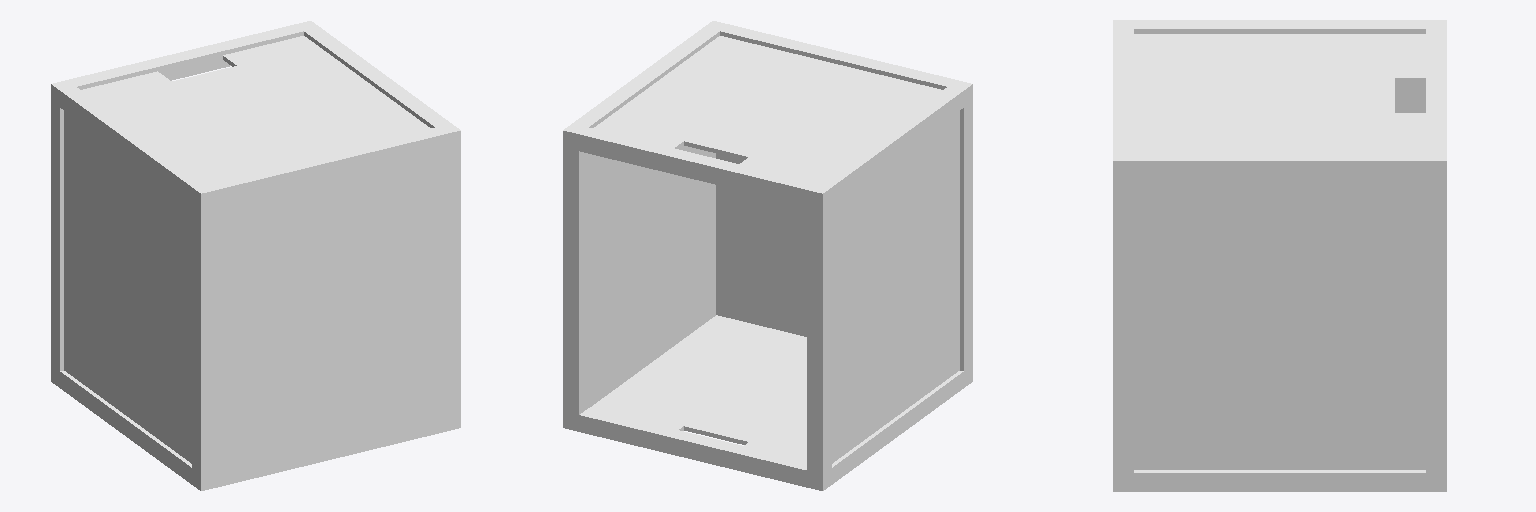
URDF robot description (cube.urdf):
<?xml version="0.0" ?>
<robot name="cube.urdf">
  <link concave="yes" name="baseLink">
    <inertial>
      <origin rpy="0 0 0" xyz="0 0 0"/>
       <mass value=".0"/>
       <inertia ixx="0" ixy="0" ixz="0" iyy="0" iyz="0" izz="0"/>
    </inertial>
    <visual>
      <origin rpy="0 0 0" xyz="0 0 0"/>
      <geometry>
				<mesh filename="basket.obj" scale="1 1 1"/>
      </geometry>
       <material name="white">
        <color rgba="1 1 1 1"/>
      </material>
    </visual>
    <collision>
      <origin rpy="0 0 0" xyz="0 0 0"/>
     <geometry>
				<mesh filename="basket.obj" scale="1 1 1"/>
      </geometry>
    </collision>
  </link>
</robot>

--- Render facts (derived) ---
3 views of the same robot in one strip: view 1: azimuth 30°, elevation 25°; view 2: azimuth 150°, elevation 25°; view 3: azimuth 270°, elevation 25° (orthographic).
Model cube.urdf with 1 links and 0 joints (none), rooted at baseLink, posed all joints at 0.
Links seen in each view (by area): view 1: baseLink; view 2: baseLink; view 3: baseLink.
Link boxes in pixels (x1,y1,x2,y2): baseLink: (51,21,460,490); baseLink: (563,21,972,490); baseLink: (1113,20,1446,491).
Bounding box of the posed robot: 0.5593 × 0.5593 × 0.6118 m (x, y, z).
1 mesh visuals loaded from 1 distinct referenced files (1 OBJ).